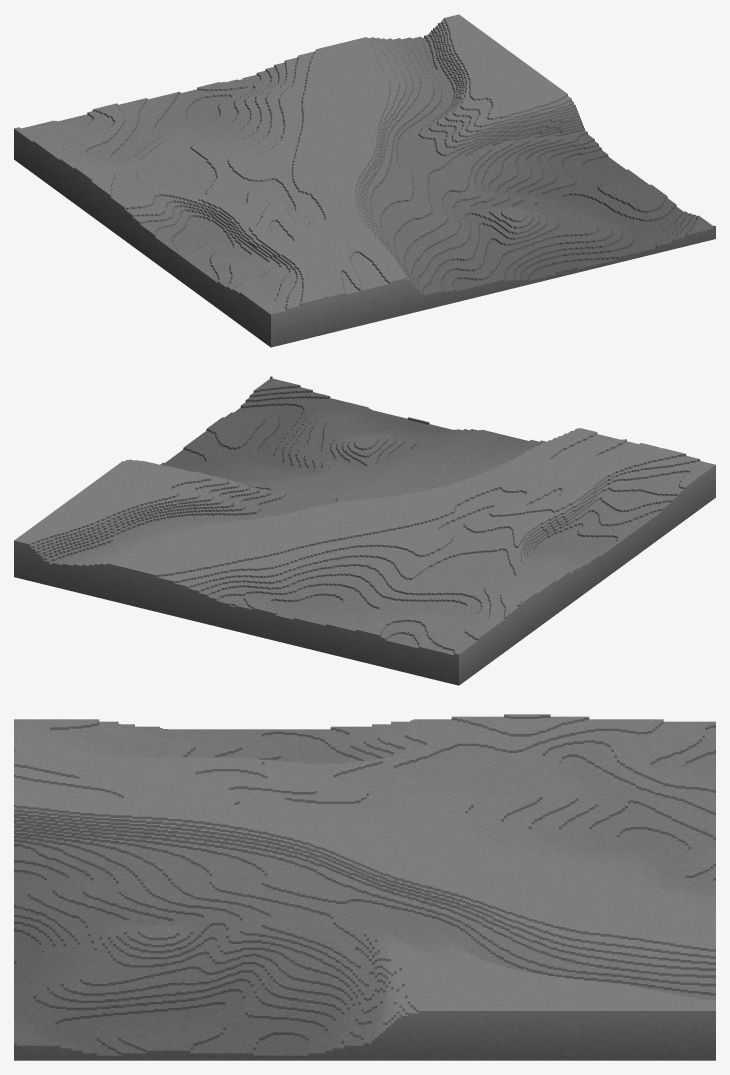
Rendered from LunaGrande-0.obj.
The picture shows the model from 3 angles, top to bottom: view 1: azimuth 30°, elevation 25°; view 2: azimuth 150°, elevation 25°; view 3: azimuth 270°, elevation 25°; orthographic projection. The views are drawn at different scales.
Size of the model in its own units: 25.5 by 2 by 25.5.
Materials: 1 (1 with a texture image).
